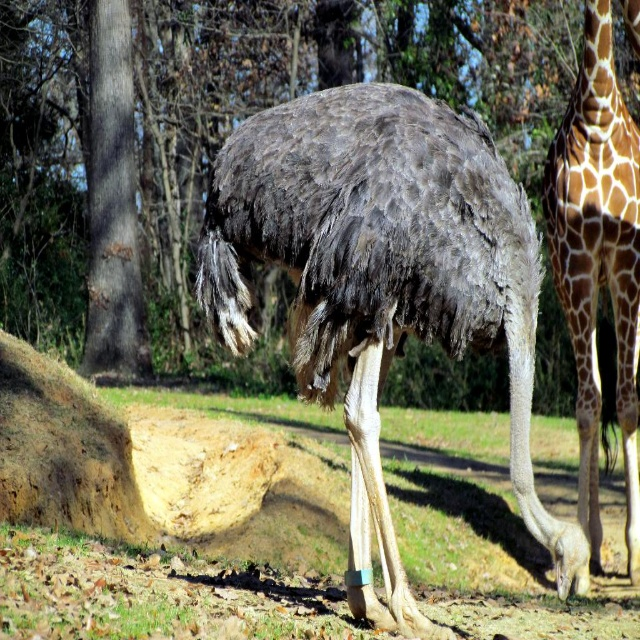Giraffe: (539, 0, 640, 585)
